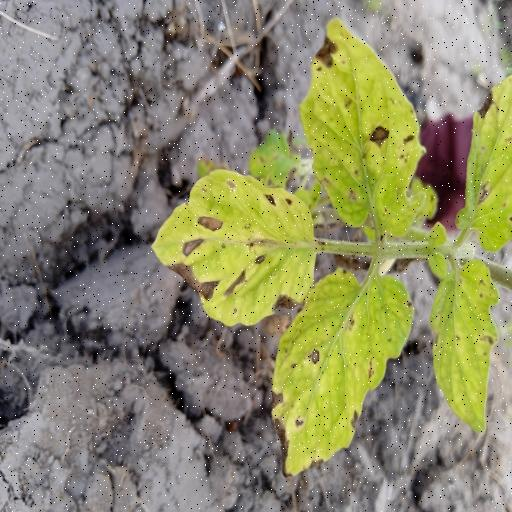Tomato_Brown_Spots: (269, 264, 416, 480), (302, 12, 429, 242), (149, 165, 320, 335), (429, 254, 503, 440), (461, 69, 512, 256)
